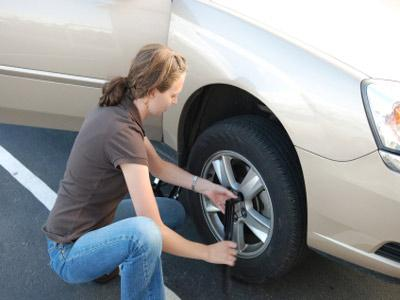person: (43, 42, 240, 300)
